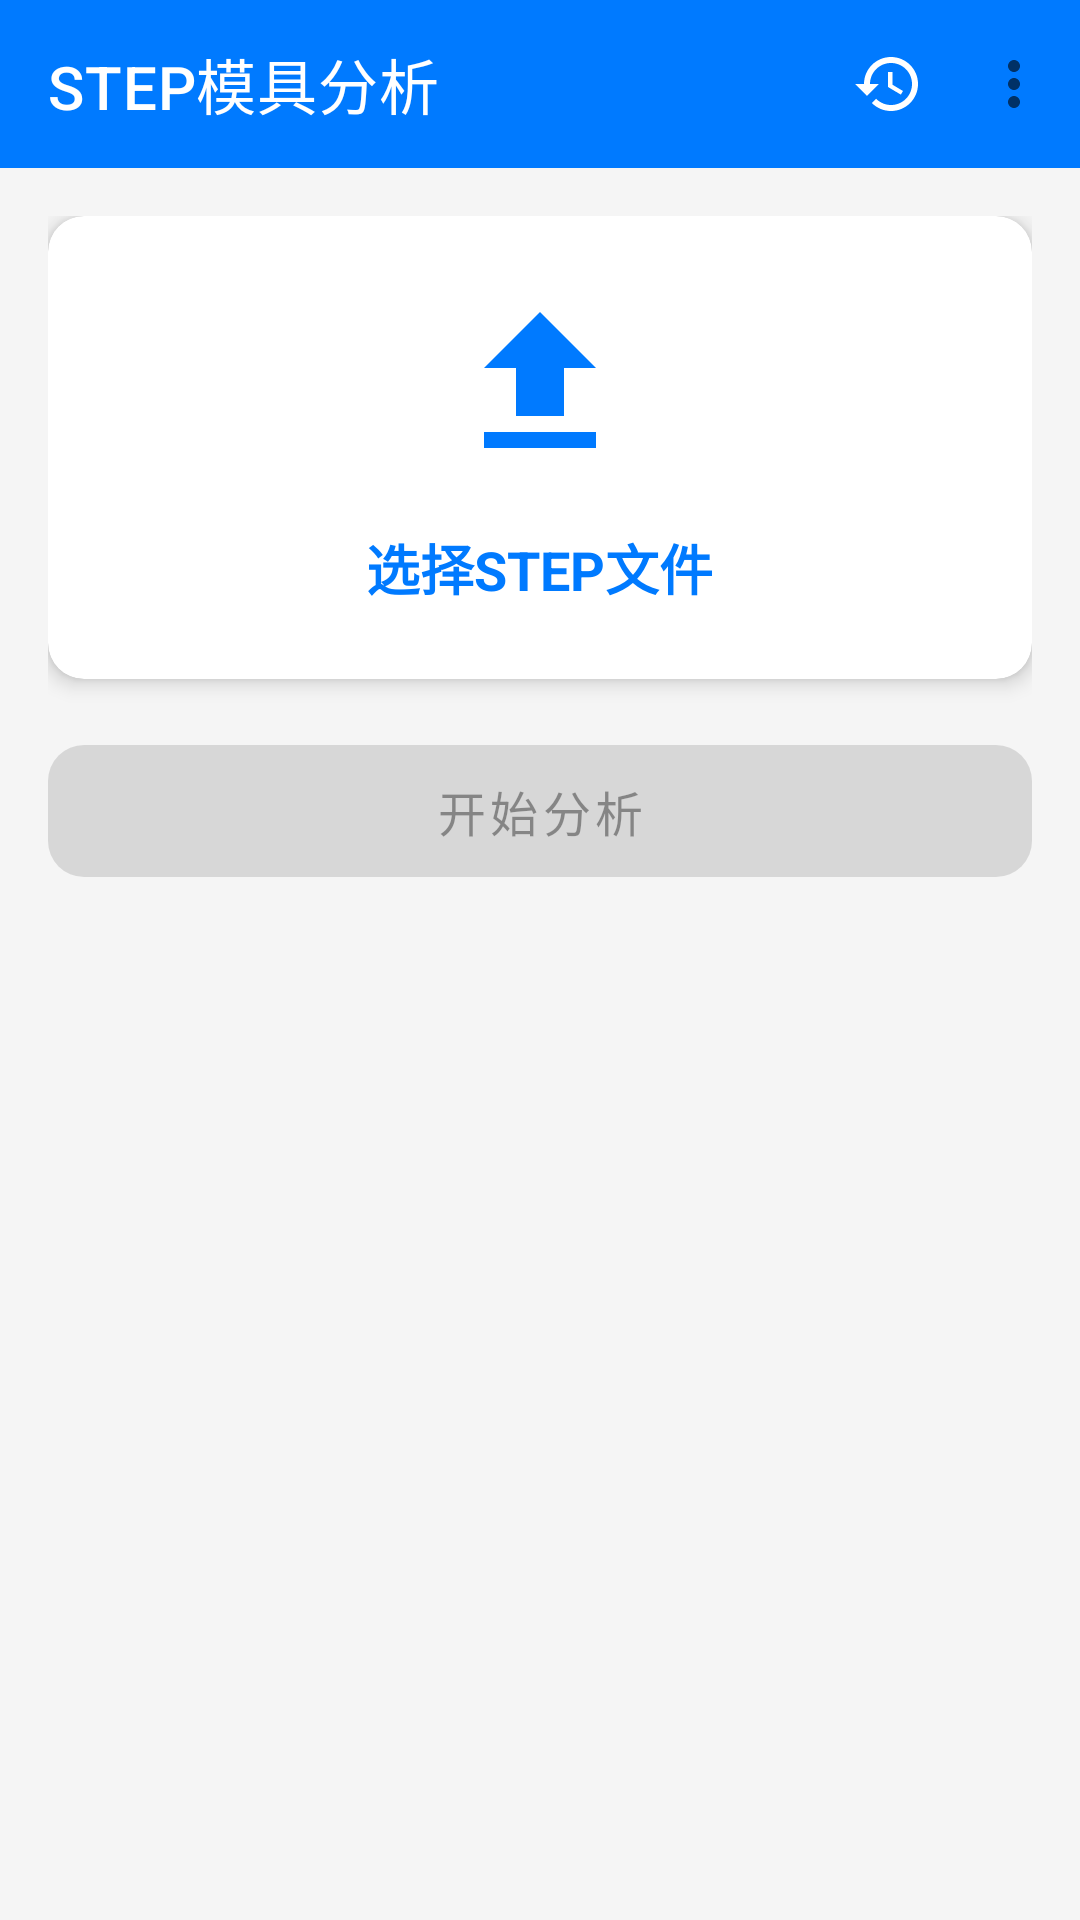

Named icons in this screenshot (1080x1920) and their centers, (x=x, y=y):
上传图标: (x=540, y=380)
